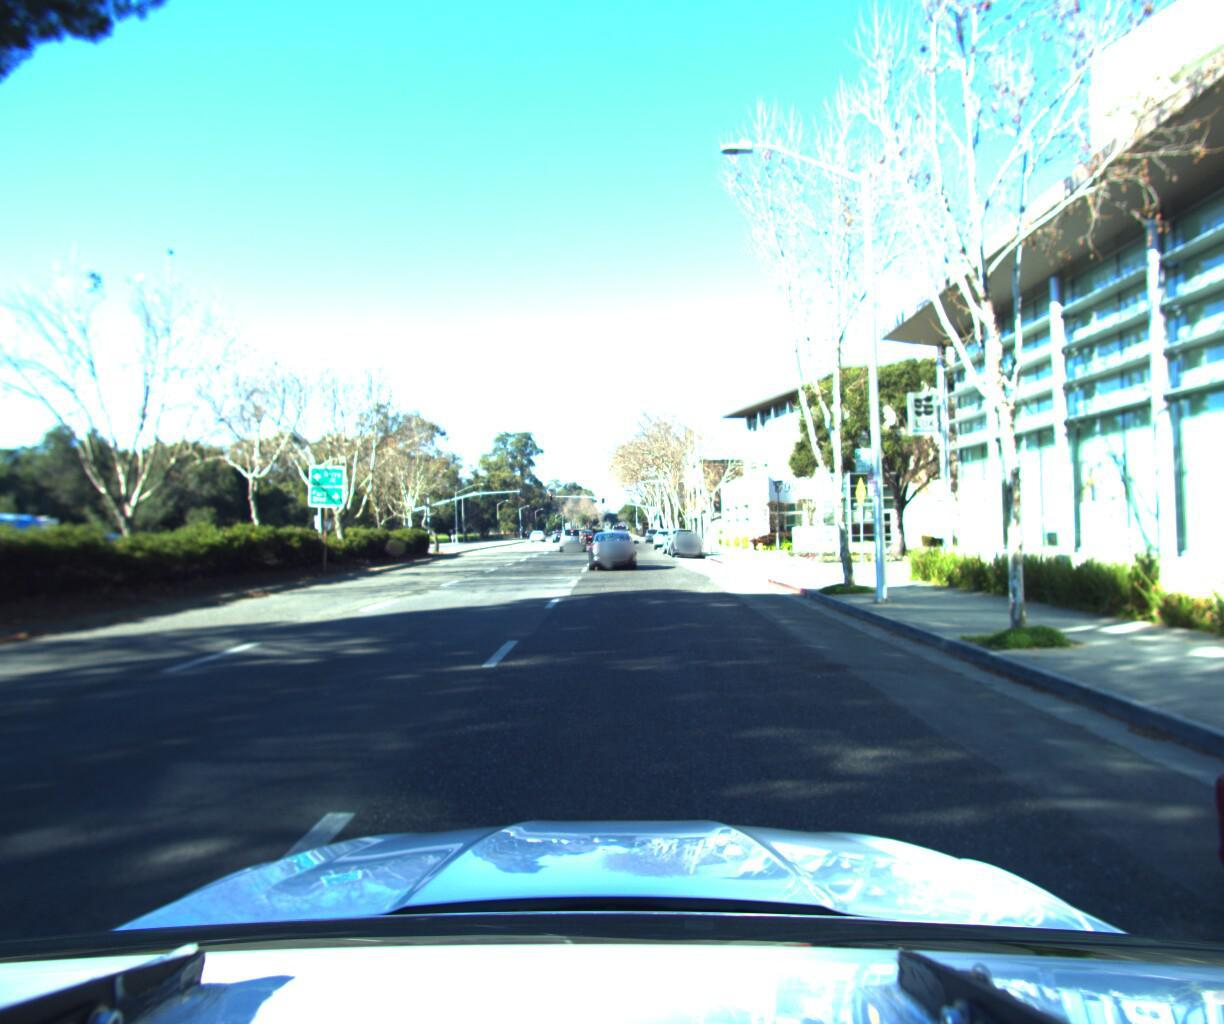car: (1139, 511, 1224, 554), (1081, 505, 1180, 541), (585, 525, 638, 568), (669, 527, 707, 558), (559, 525, 587, 551), (654, 526, 680, 550)
other_vehicle: (0, 513, 77, 608)
